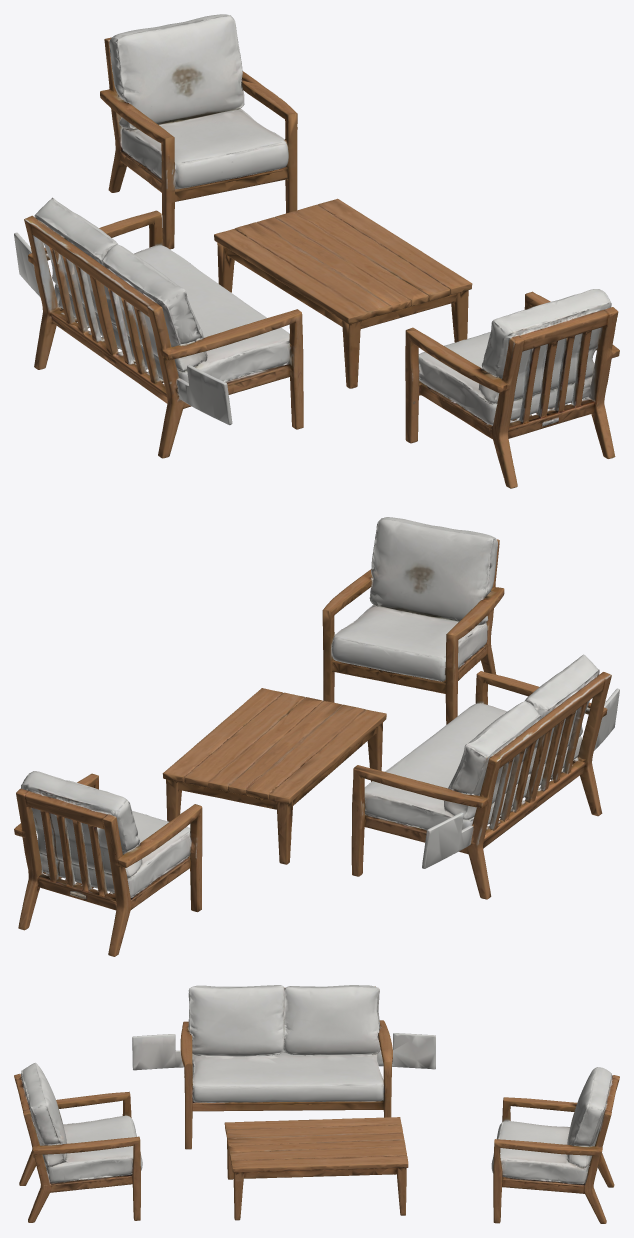
Rendered from 3d_model_furni-v1.glb.
3 renders of one model, top to bottom at view 1: azimuth 30°, elevation 25°; view 2: azimuth 150°, elevation 25°; view 3: azimuth 270°, elevation 25°, orthographic. The views are drawn at different scales.
Parts seen in each view (by area): view 1: tripo_node_3592158e-a71d-4861-95e2-f306974ff62c; view 2: tripo_node_3592158e-a71d-4861-95e2-f306974ff62c; view 3: tripo_node_3592158e-a71d-4861-95e2-f306974ff62c.
Boxes of the visible parts, x1,y1,x2,y2 form: tripo_node_3592158e-a71d-4861-95e2-f306974ff62c: (14,14,619,488); tripo_node_3592158e-a71d-4861-95e2-f306974ff62c: (14,517,619,956); tripo_node_3592158e-a71d-4861-95e2-f306974ff62c: (14,985,619,1223).
Bounding box in the file's own units: 0.498 × 0.2168 × 0.98.
1 material, 1 textured.
